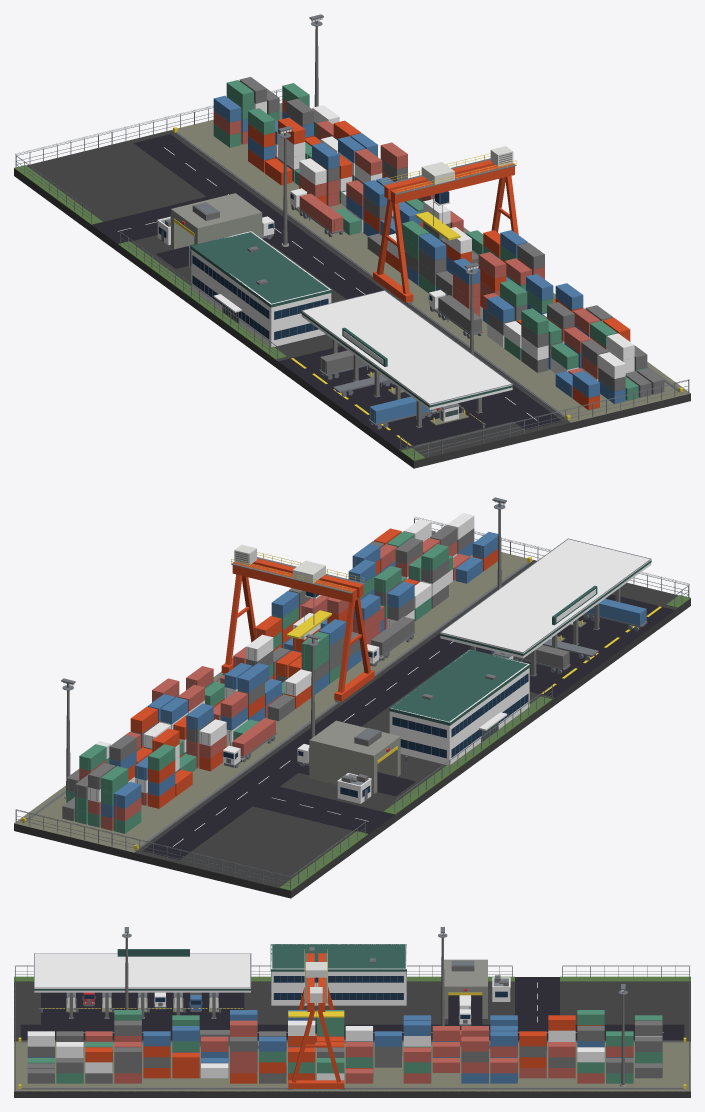
Rendered from top-prebuilt_close.fbx.
3 views of the same model, one above another, from view 1: azimuth 30°, elevation 25°; view 2: azimuth 150°, elevation 25°; view 3: azimuth 270°, elevation 25° (orthographic). The views are drawn at different scales.
Parts seen in each view (by area): view 1: a1081_0_top-prebuilt_close; view 2: a1081_0_top-prebuilt_close; view 3: a1081_0_top-prebuilt_close.
Boxes of the visible parts, x1,y1,x2,y2 form: a1081_0_top-prebuilt_close: (14, 14, 690, 468); a1081_0_top-prebuilt_close: (14, 497, 690, 898); a1081_0_top-prebuilt_close: (14, 927, 690, 1097).
Size of the model in its own units: 60 by 25.75 by 150.
